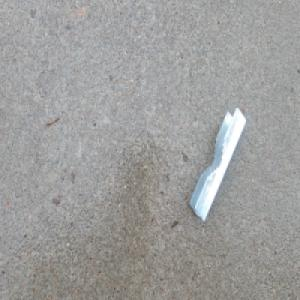ClampPart: (189, 107, 246, 224)
